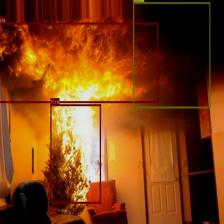fire: (0, 22, 158, 102), (50, 104, 101, 204)
smoke: (133, 2, 210, 108)
